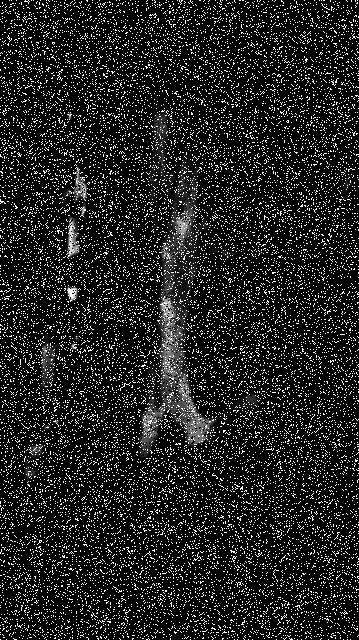pot: (185, 253, 331, 415)
